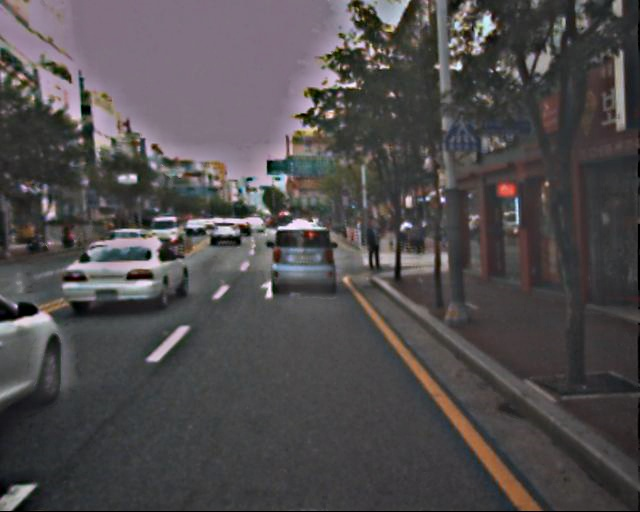person: (363, 214, 386, 270), (401, 221, 426, 254)
